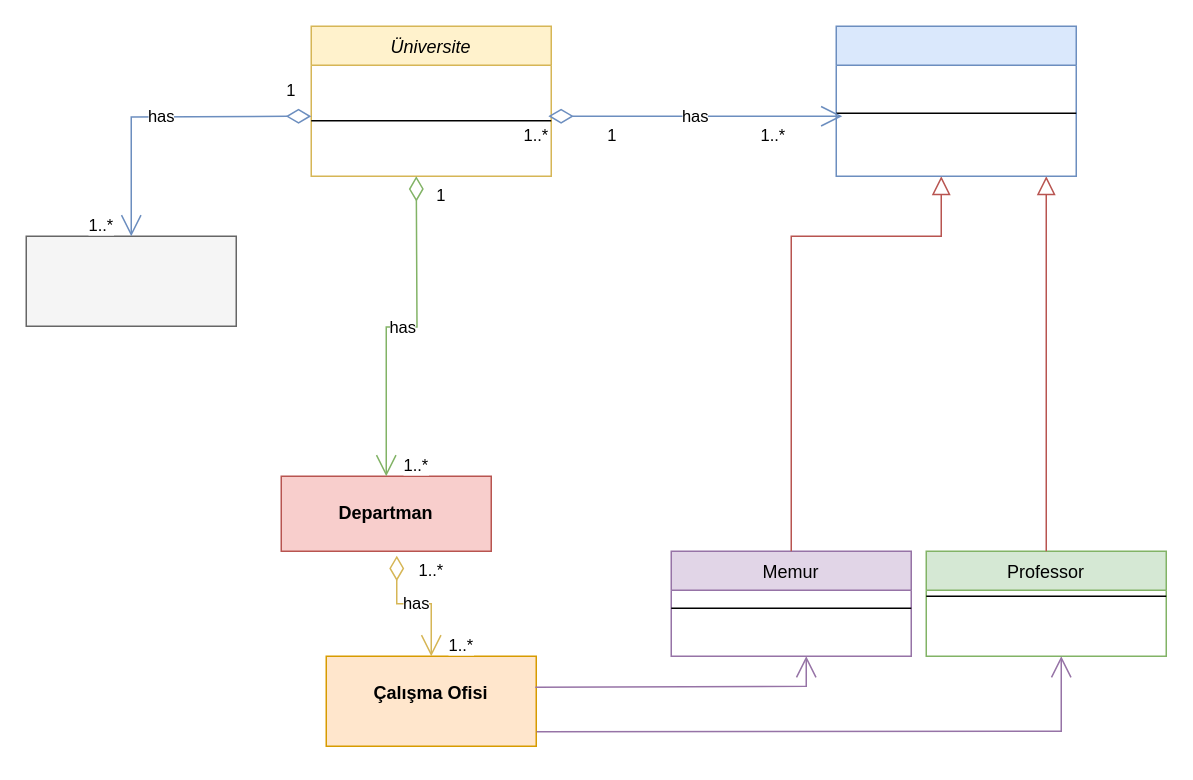
The diagram is 1193 pixels wide and 780 high, and some of its shapes have lost their labels. Each missing label, with the box of its shape:
Calisan: (835, 25, 1076, 176)
Sınıflık: (25, 235, 236, 326)
